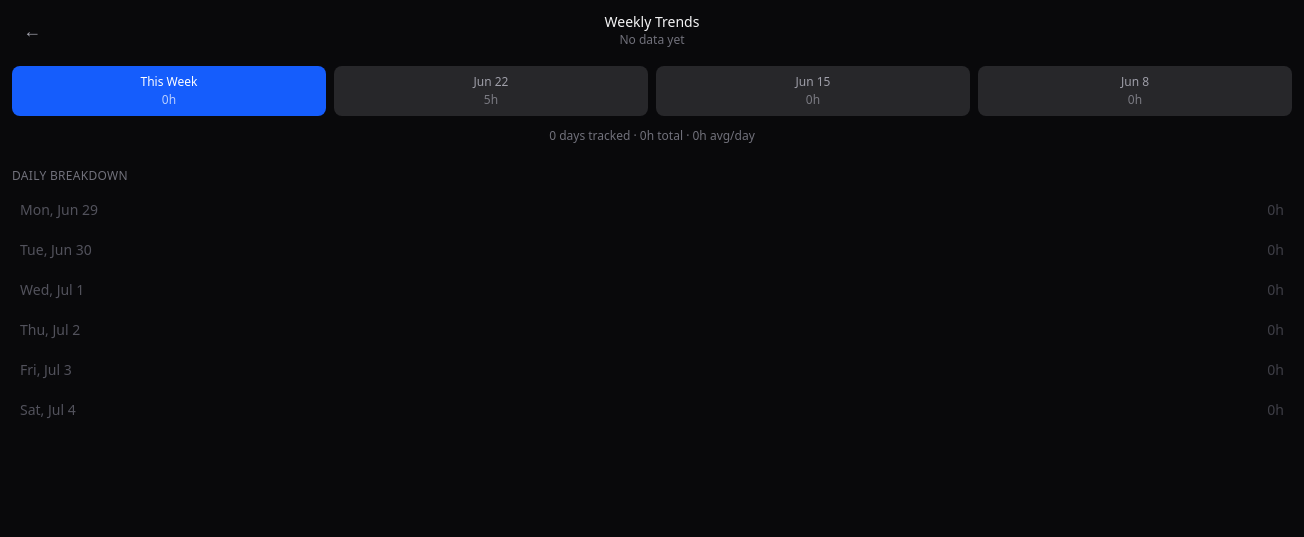
SummaryView › clicking a past week pill updates the view
Click the text "Jun 22".
click(491, 82)  # box [474,73,508,90]
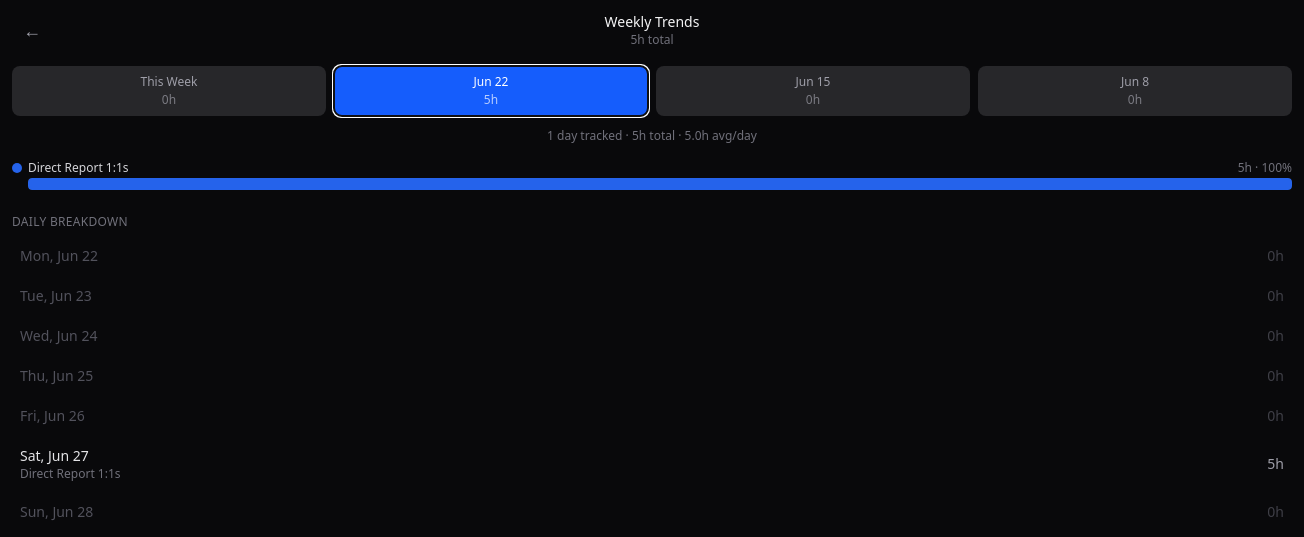
Expected: the text "1 day tracked · 5h total · 5.0h avg/day" is shown, [547,127,757,144]
